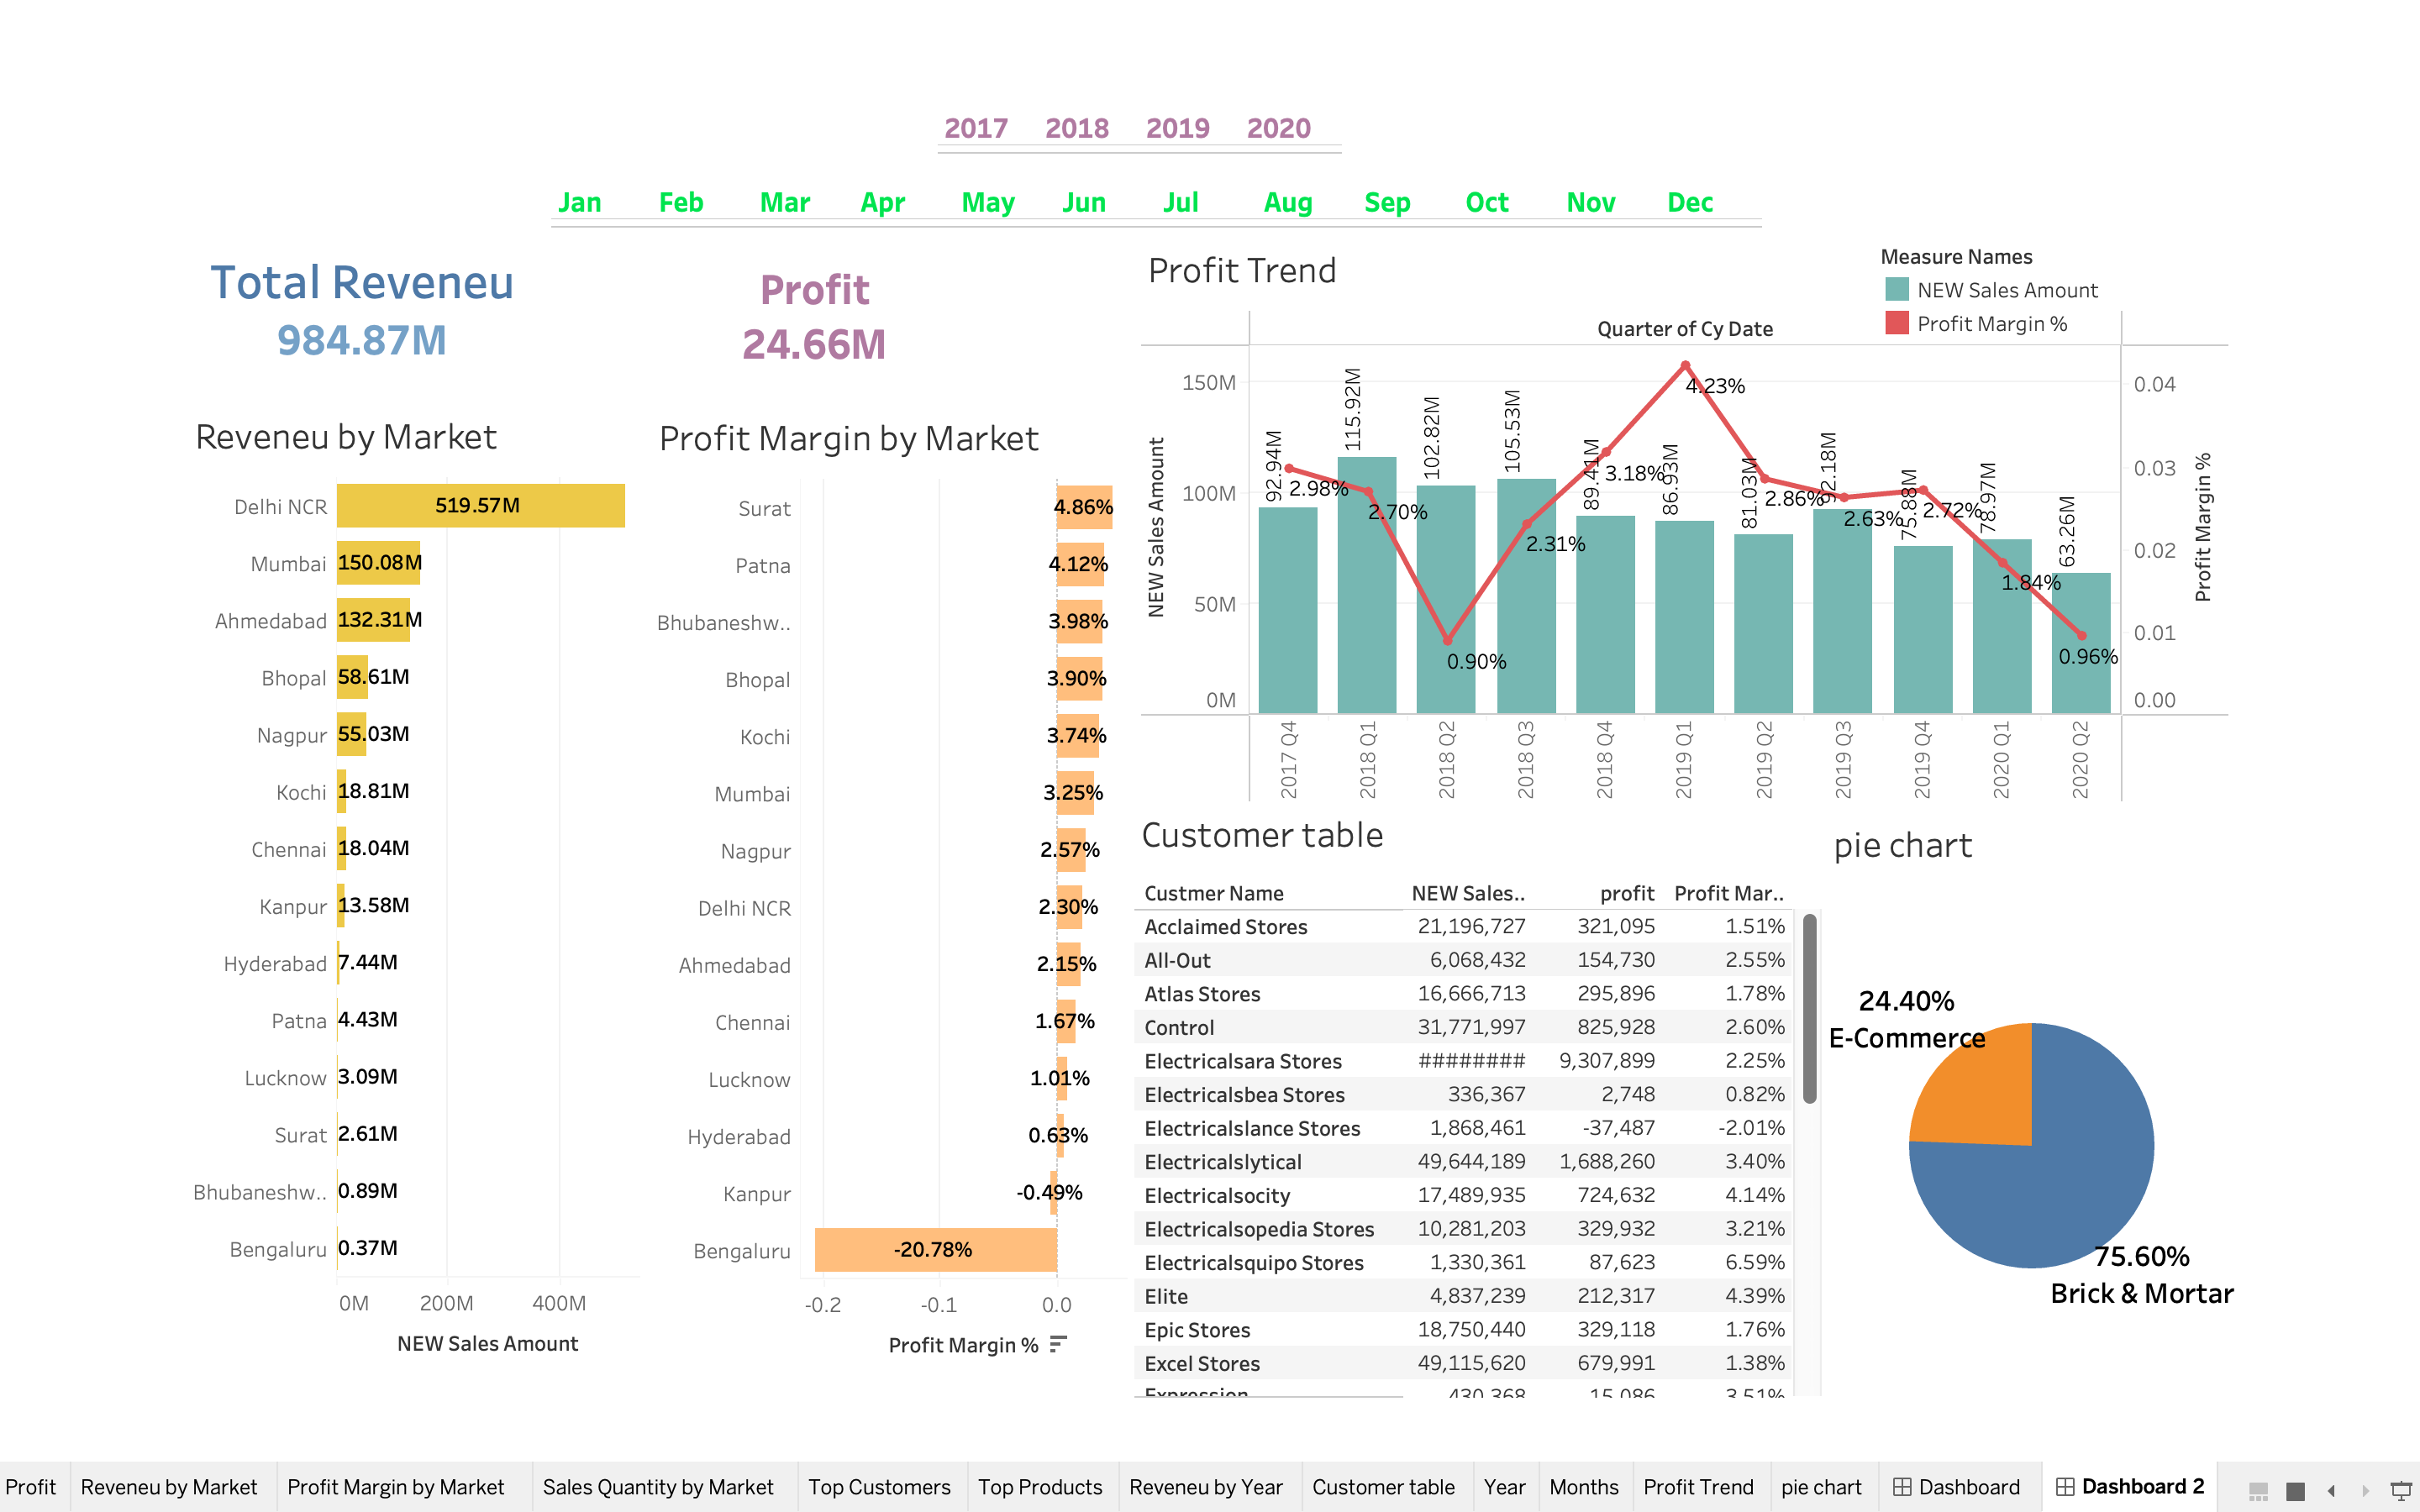

What the dashboard file says about the page in this screenshot:
{"tool":"tableau","page":{"name":"Dashboard 2","canvas":[1220,805],"ordinal":1},"visuals":[{"type":"worksheet","title":"Year","mark":"Automatic","cols":["date"],"box":[448,19,244,41]},{"type":"worksheet","title":"Months","mark":"Automatic","cols":["date"],"box":[218,62,742,42]},{"type":"worksheet","title":"Profit Trend","mark":"Bar","rows":["Calculation_252060849154756608","Calculation_406309136674324480"],"cols":["cy_date"],"box":[569,110,648,336]},{"type":"legend","title":"Profit Trend","param":"[federated.08kksi40ypaym01boe1150mk2e1w].[:Measure Names]","box":[1009,112,140,58]},{"type":"worksheet","title":"Reveneu","mark":"Automatic","box":[6,116,205,73]},{"type":"worksheet","title":"Profit","mark":"Automatic","box":[325,123,105,71]},{"type":"worksheet","title":"Reveneu by Market","mark":"Automatic","rows":["markets_name"],"cols":["Calculation_252060849154756608"],"box":[2,209,269,589]},{"type":"worksheet","title":"Profit Margin by Market ","mark":"Automatic","rows":["markets_name"],"cols":["Calculation_406309136674324480"],"box":[278,210,283,583]},{"type":"worksheet","title":"Customer table","mark":"Automatic","rows":["custmer_name"],"box":[565,446,415,354]},{"type":"worksheet","title":"pie chart","mark":"Pie","box":[977,452,244,353]}]}

Visuals, with their boxes on the page's 1220x805 design canvas (x1, y1, x2, y2). These are canvas units, not pixel positions in the 2420x1512 screenshot, which may show the page scaled, cropped or inside an application window:
"Year" worksheet: 448/19/692/60
"Months" worksheet: 218/62/960/104
"Profit Trend" worksheet (Bar marks): 569/110/1217/446
"Profit Trend" legend: 1009/112/1149/170
"Reveneu" worksheet: 6/116/211/189
"Profit" worksheet: 325/123/430/194
"Reveneu by Market" worksheet: 2/209/271/798
"Profit Margin by Market " worksheet: 278/210/561/793
"Customer table" worksheet: 565/446/980/800
"pie chart" worksheet (Pie marks): 977/452/1221/805
